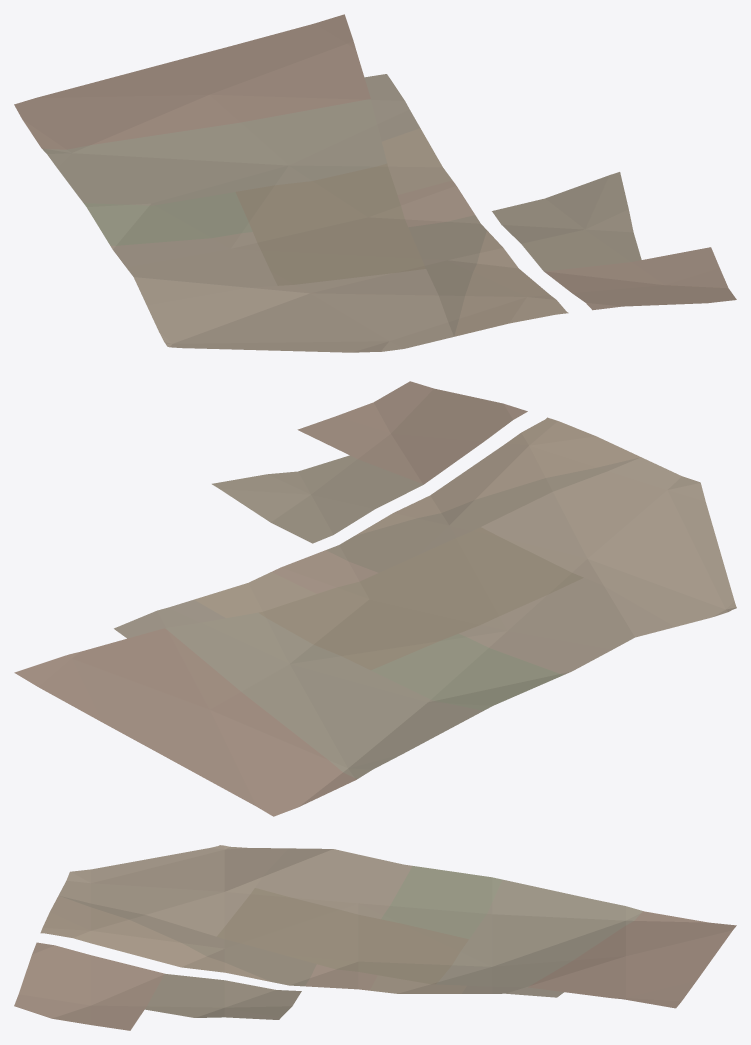
The model's file is farm_-29_-31_soil.glb.
The picture shows the model from 3 angles, top to bottom: view 1: azimuth 30°, elevation 25°; view 2: azimuth 150°, elevation 25°; view 3: azimuth 270°, elevation 25°; orthographic projection. The views are drawn at different scales.
Parts seen in each view (by area): view 1: geometry_0; view 2: geometry_0; view 3: geometry_0.
Part boxes in pixels (<box>): geometry_0: <box>14,14,736,352</box>; geometry_0: <box>14,381,736,816</box>; geometry_0: <box>14,845,736,1030</box>.
Bounding box in the file's own units: 285 × 33.86 × 433.
